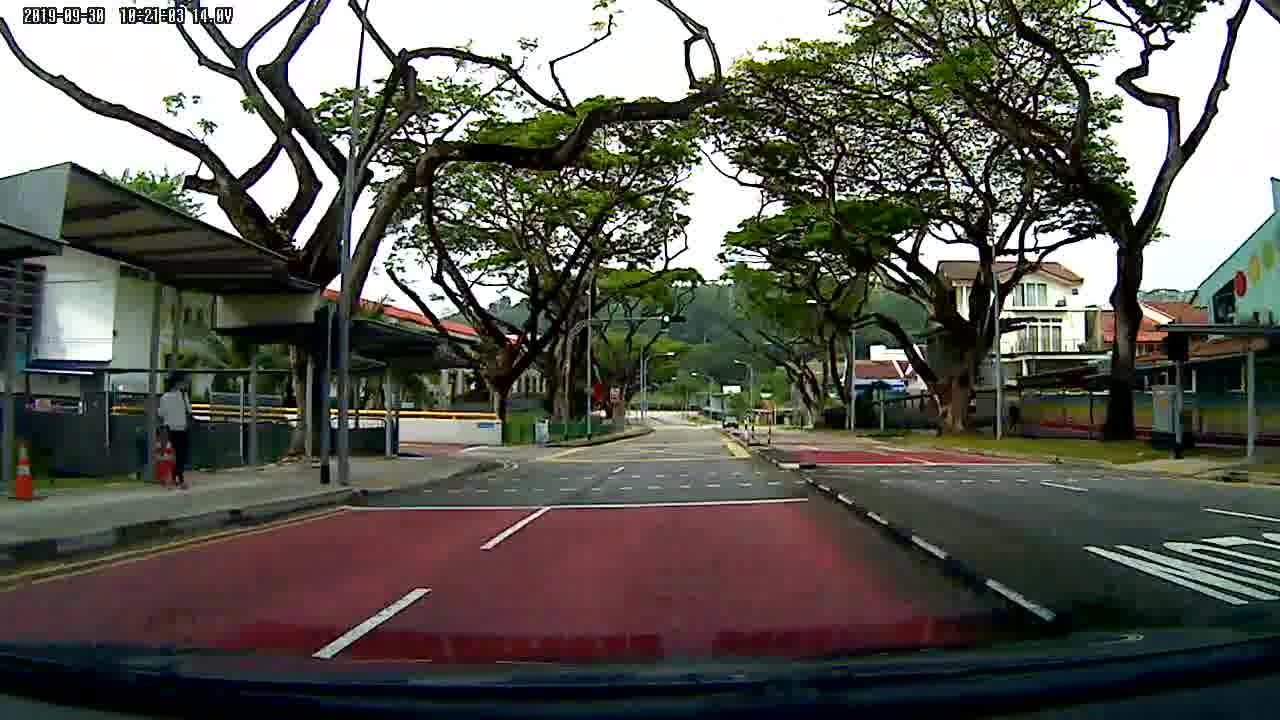car: (720, 413, 740, 430)
